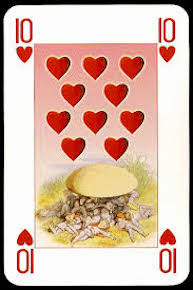TenOfHearts: (2, 2, 191, 287)
